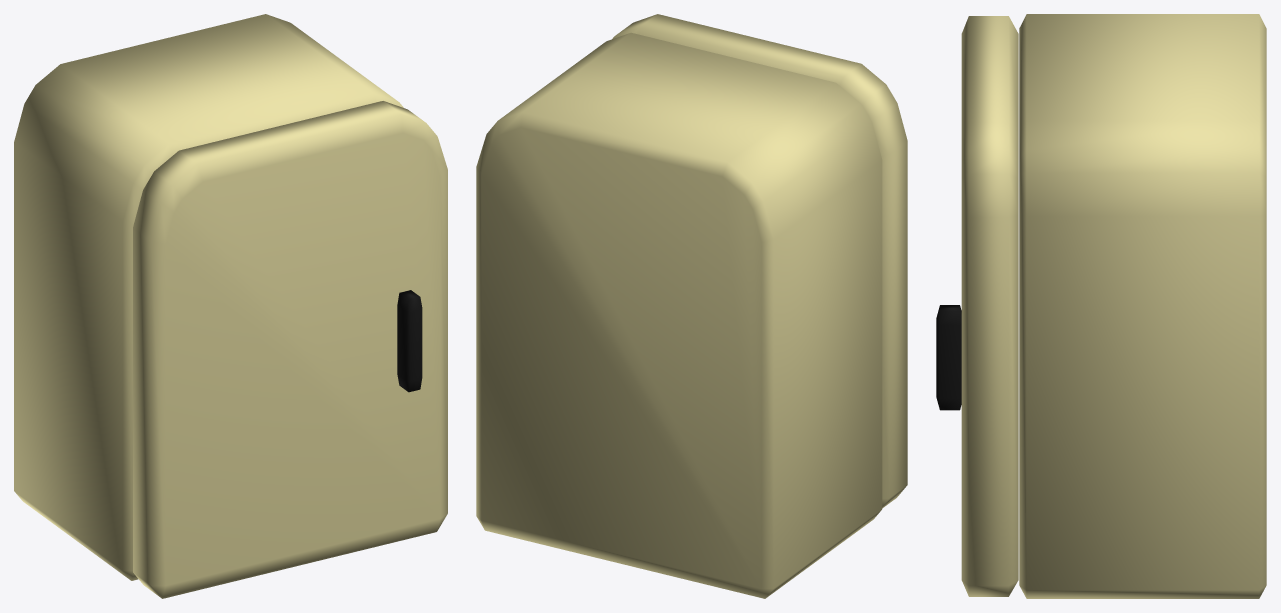
The model's file is fridge_temp.fbx.
The picture shows the model from 3 angles, left to right: view 1: azimuth 30°, elevation 25°; view 2: azimuth 150°, elevation 25°; view 3: azimuth 270°, elevation 25°; orthographic projection. The views are drawn at different scales.
Visible parts, largest first — view 1: Door, Base, DoorHandle; view 2: Base, Door; view 3: Base, Door, DoorHandle.
Boxes of the visible parts, box(x1,y1,x2,y2) form: Door: box(133, 101, 447, 598); Base: box(14, 14, 403, 580); DoorHandle: box(397, 290, 422, 392); Base: box(476, 32, 882, 598); Door: box(612, 14, 907, 508); Base: box(1019, 14, 1266, 598); Door: box(961, 16, 1018, 596); DoorHandle: box(936, 305, 961, 410).
Size of the model in its own units: 146 by 200 by 131.
